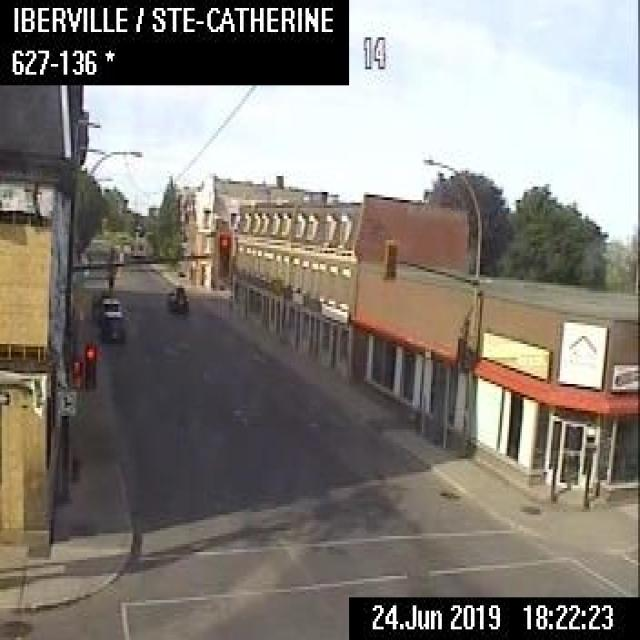vehicle: (98, 306, 124, 340), (165, 283, 188, 312), (96, 292, 119, 311)
